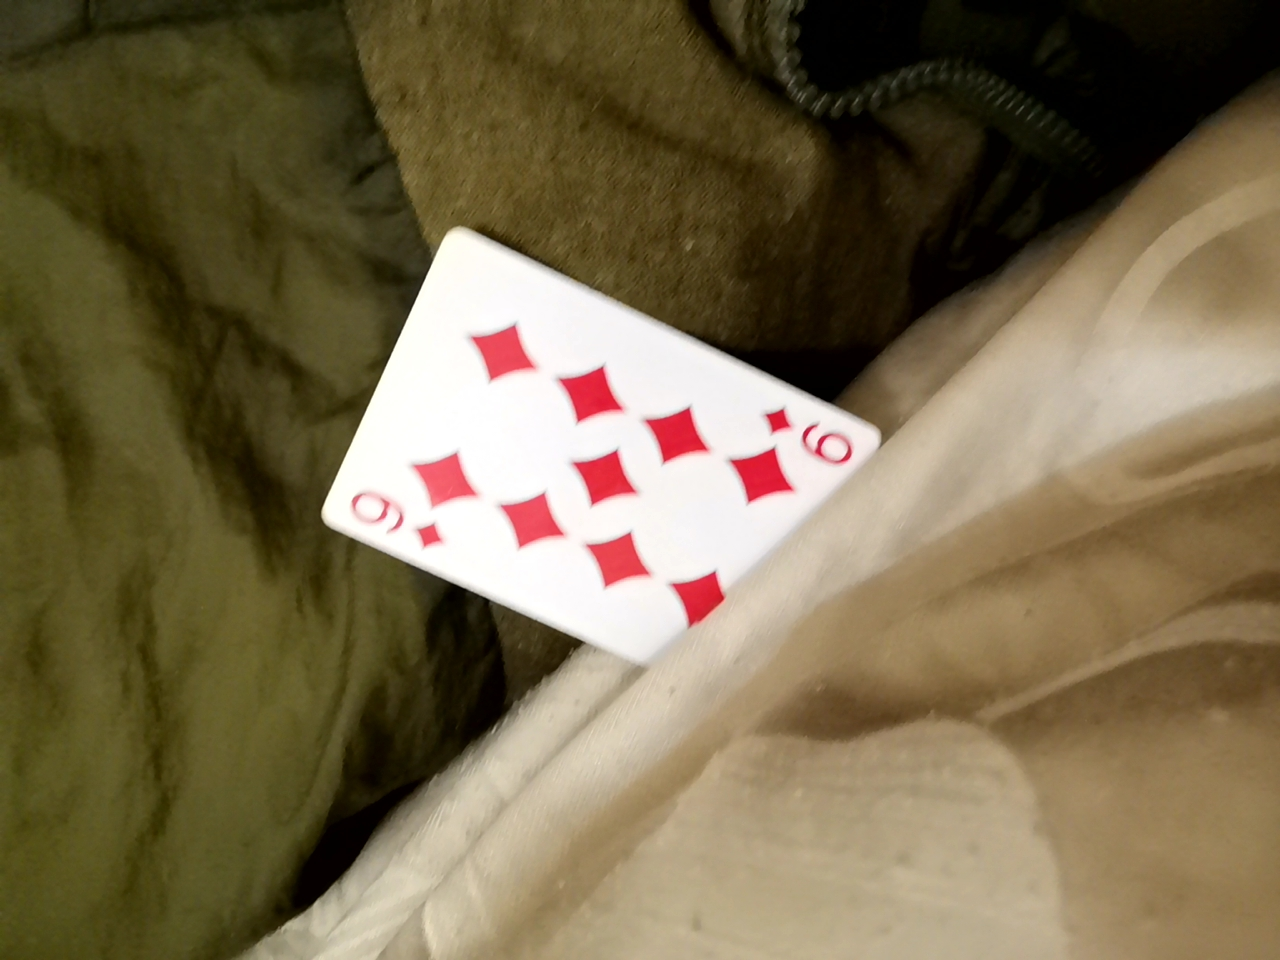fk 9: (314, 209, 884, 675)
